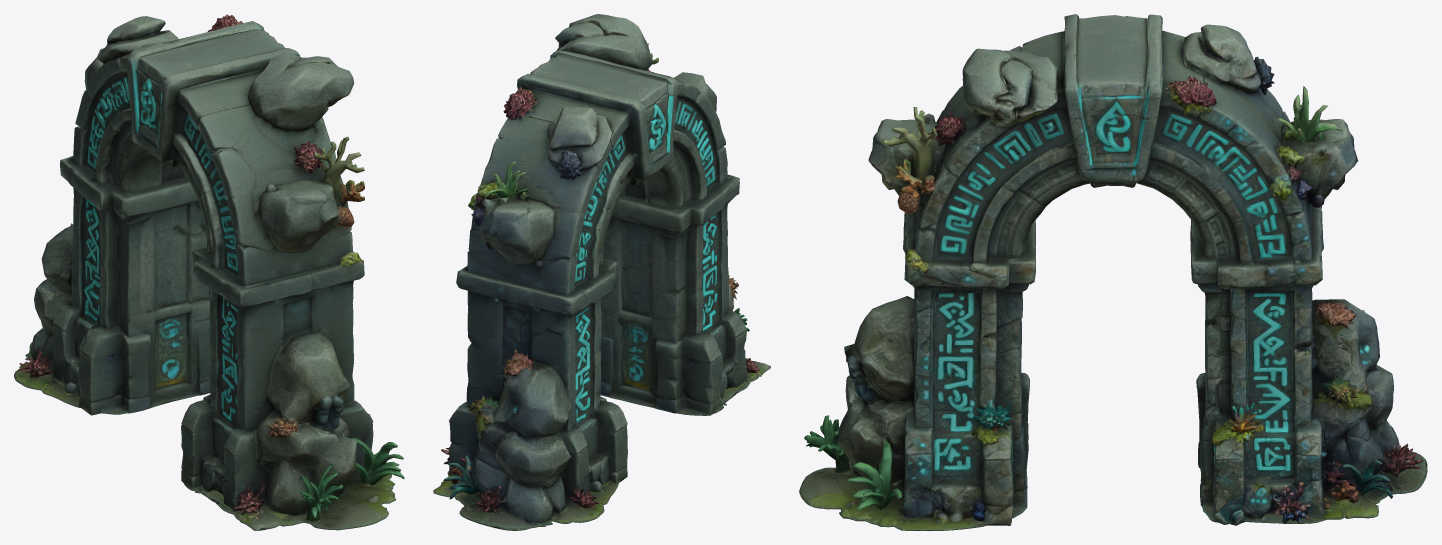
The model's file is gate.glb.
The picture shows the model from 3 angles, left to right: view 1: azimuth 30°, elevation 25°; view 2: azimuth 150°, elevation 25°; view 3: azimuth 270°, elevation 25°; orthographic projection. The views are drawn at different scales.
Parts seen in each view (by area): view 1: tripo_node_b672086c-e3ad-4825-83e2-264084ed2c2b; view 2: tripo_node_b672086c-e3ad-4825-83e2-264084ed2c2b; view 3: tripo_node_b672086c-e3ad-4825-83e2-264084ed2c2b.
Part boxes in pixels (bbox=[...]): tripo_node_b672086c-e3ad-4825-83e2-264084ed2c2b: bbox=[14, 14, 404, 530]; tripo_node_b672086c-e3ad-4825-83e2-264084ed2c2b: bbox=[433, 14, 770, 530]; tripo_node_b672086c-e3ad-4825-83e2-264084ed2c2b: bbox=[799, 14, 1427, 530].
Bounding box in the file's own units: 0.3908 × 0.7923 × 1.
1 material, 1 textured.
